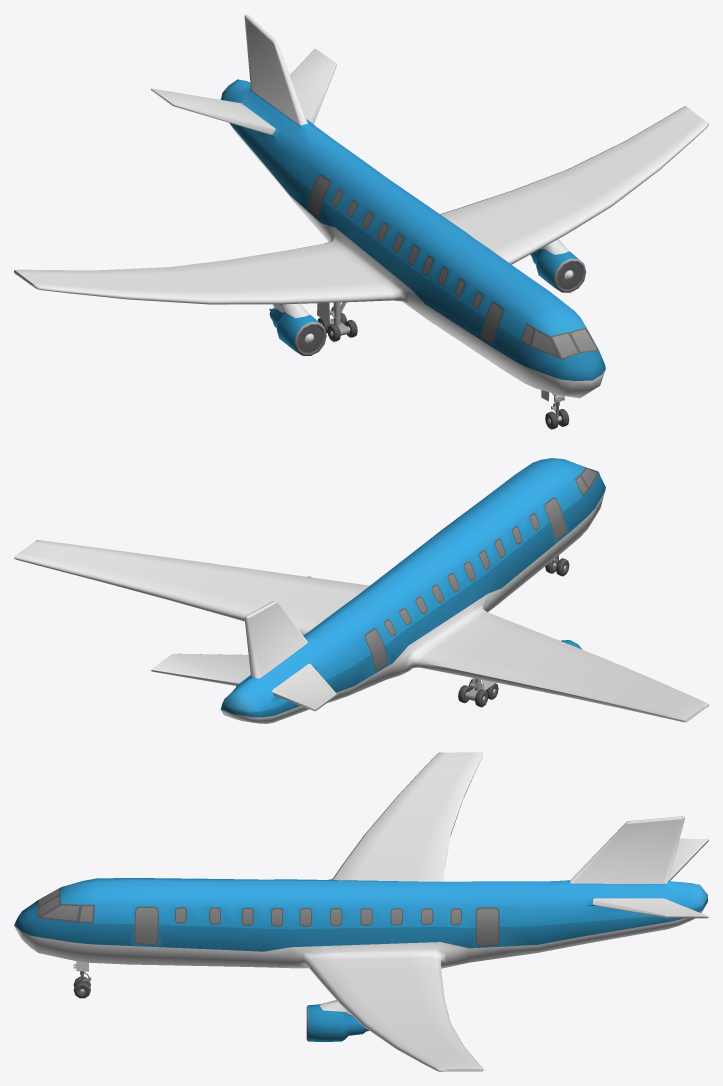
The model's file is plane_blue.glb.
3 views of the same model, one above another, from view 1: azimuth 30°, elevation 25°; view 2: azimuth 150°, elevation 25°; view 3: azimuth 270°, elevation 25° (orthographic). The views are drawn at different scales.
Parts seen in each view (by area): view 1: plane_blue.001; view 2: plane_blue.001; view 3: plane_blue.001.
Boxes of the visible parts, box(x1,y1,x2,y2) form: plane_blue.001: box(14, 14, 708, 417); plane_blue.001: box(14, 458, 708, 723); plane_blue.001: box(14, 752, 708, 1071).
Size of the model in its own units: 20.96 by 5.5 by 19.42.
Materials: 1 (1 with a texture image).
